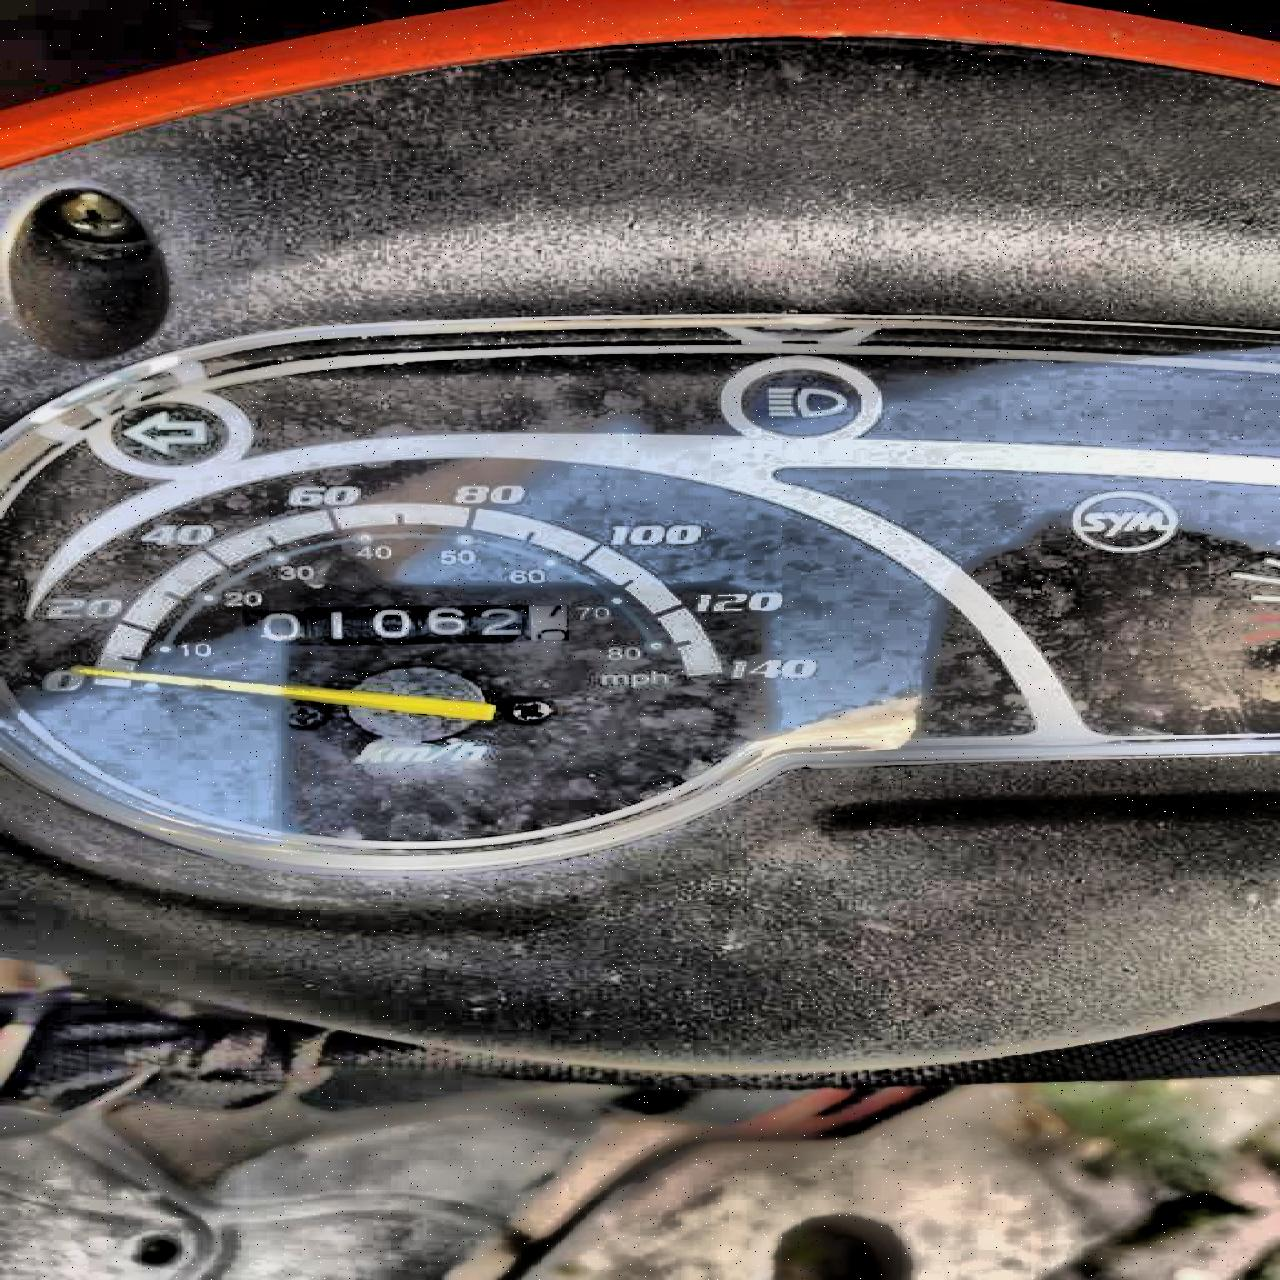0: (256, 610, 300, 641), (367, 606, 411, 638)
1: (320, 606, 349, 641)
2: (476, 606, 520, 636)
6: (422, 605, 467, 635)
7: (531, 601, 565, 619)
8: (531, 625, 568, 644)
odometer: (231, 599, 578, 652)
